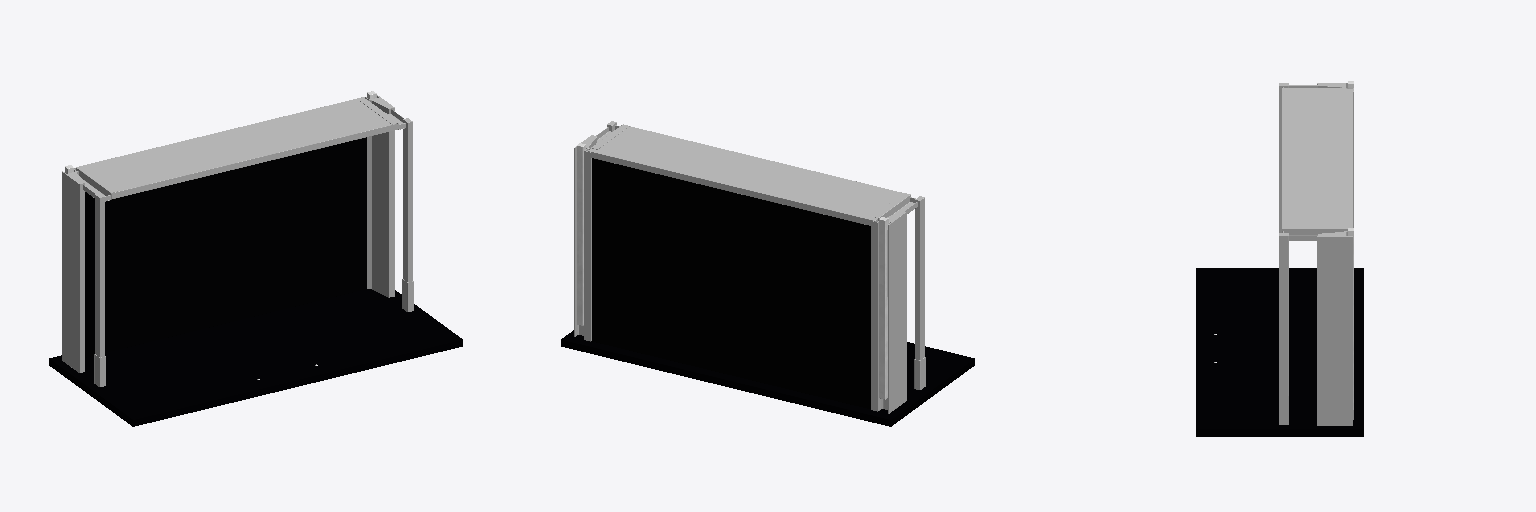
The picture shows the model from 3 angles: view 1: azimuth 30°, elevation 25°; view 2: azimuth 150°, elevation 25°; view 3: azimuth 270°, elevation 25°; orthographic projection.
Parts seen in each view (by area): view 1: SM_Kitchen_11_Base_Drawer_03; view 2: SM_Kitchen_11_Base_Drawer_03; view 3: SM_Kitchen_11_Base_Drawer_03.
Part boxes in pixels (left/top/right/bottom): SM_Kitchen_11_Base_Drawer_03: left=49, top=91, right=462, bottom=426; SM_Kitchen_11_Base_Drawer_03: left=561, top=121, right=974, bottom=426; SM_Kitchen_11_Base_Drawer_03: left=1196, top=81, right=1363, bottom=436.
Size of the model in its own units: 0.8969 by 0.5199 by 0.396.
4 materials, 1 textured.